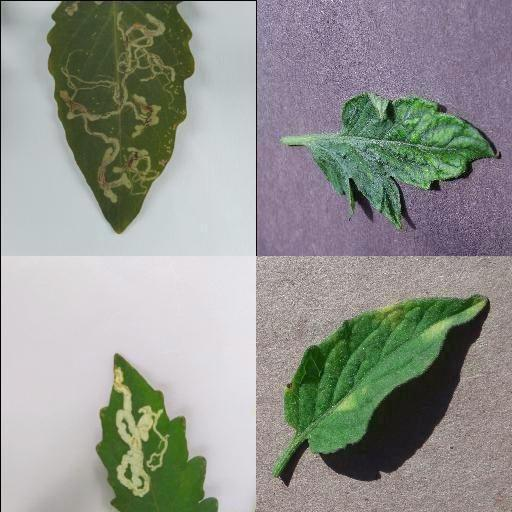Leaf Miner: (44, 3, 196, 235), (94, 353, 218, 512)
Leaf Mold: (285, 294, 489, 454)
Mosaic Virus: (308, 91, 502, 229)
